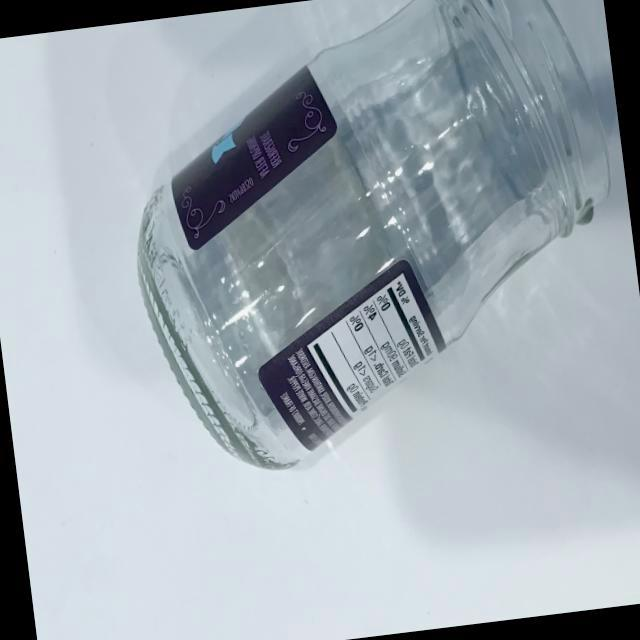glass: (96, 0, 640, 502)
